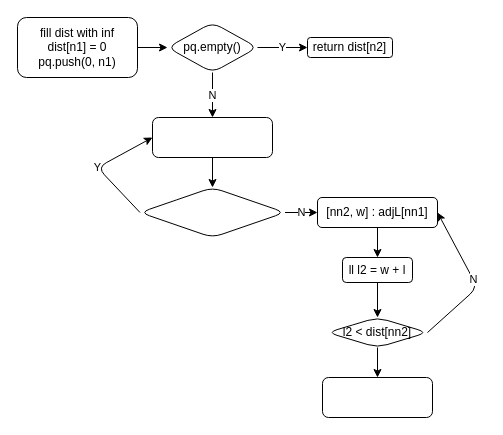
The diagram is 503 pixels wide and 435 high, and some of its shapes have lost their labels. The centre of each missing label's shape, as x and y in pixels:
"[l, nn1] = pq.top() pq.pop()" belongs at (x=212, y=137).
"dist[nn2] = l2 pq.push(l2, nn2)" belongs at (x=377, y=397).
"nn1 already calculated" belongs at (x=212, y=212).
